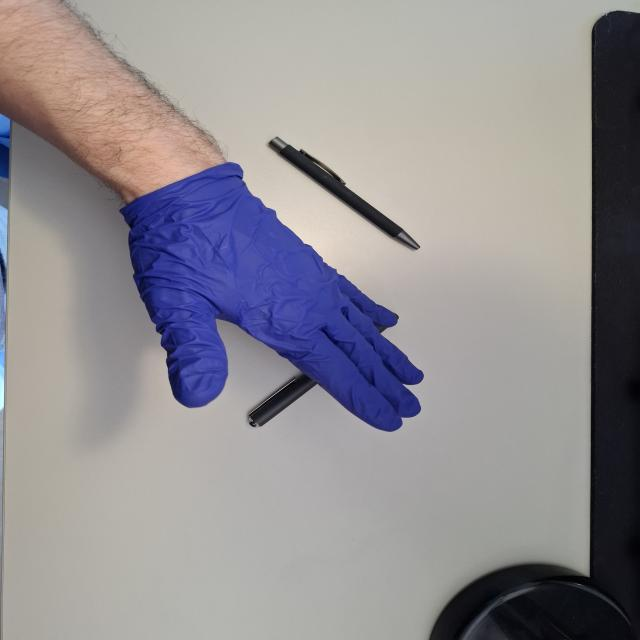glove_on: (118, 160, 430, 438)
